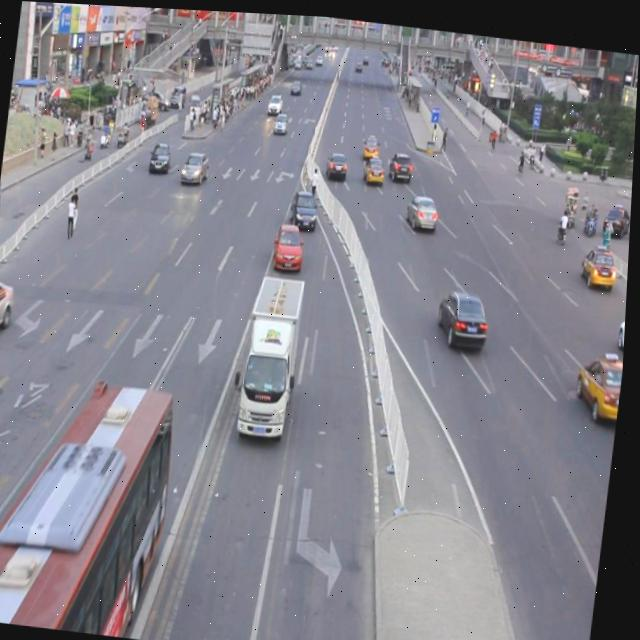bus: (237, 268, 308, 435)
car: (436, 281, 493, 345), (574, 345, 627, 413), (581, 238, 619, 283), (273, 218, 306, 269), (406, 187, 440, 226), (0, 277, 19, 341), (291, 184, 320, 225), (180, 148, 211, 182)
van: (0, 366, 183, 639)
